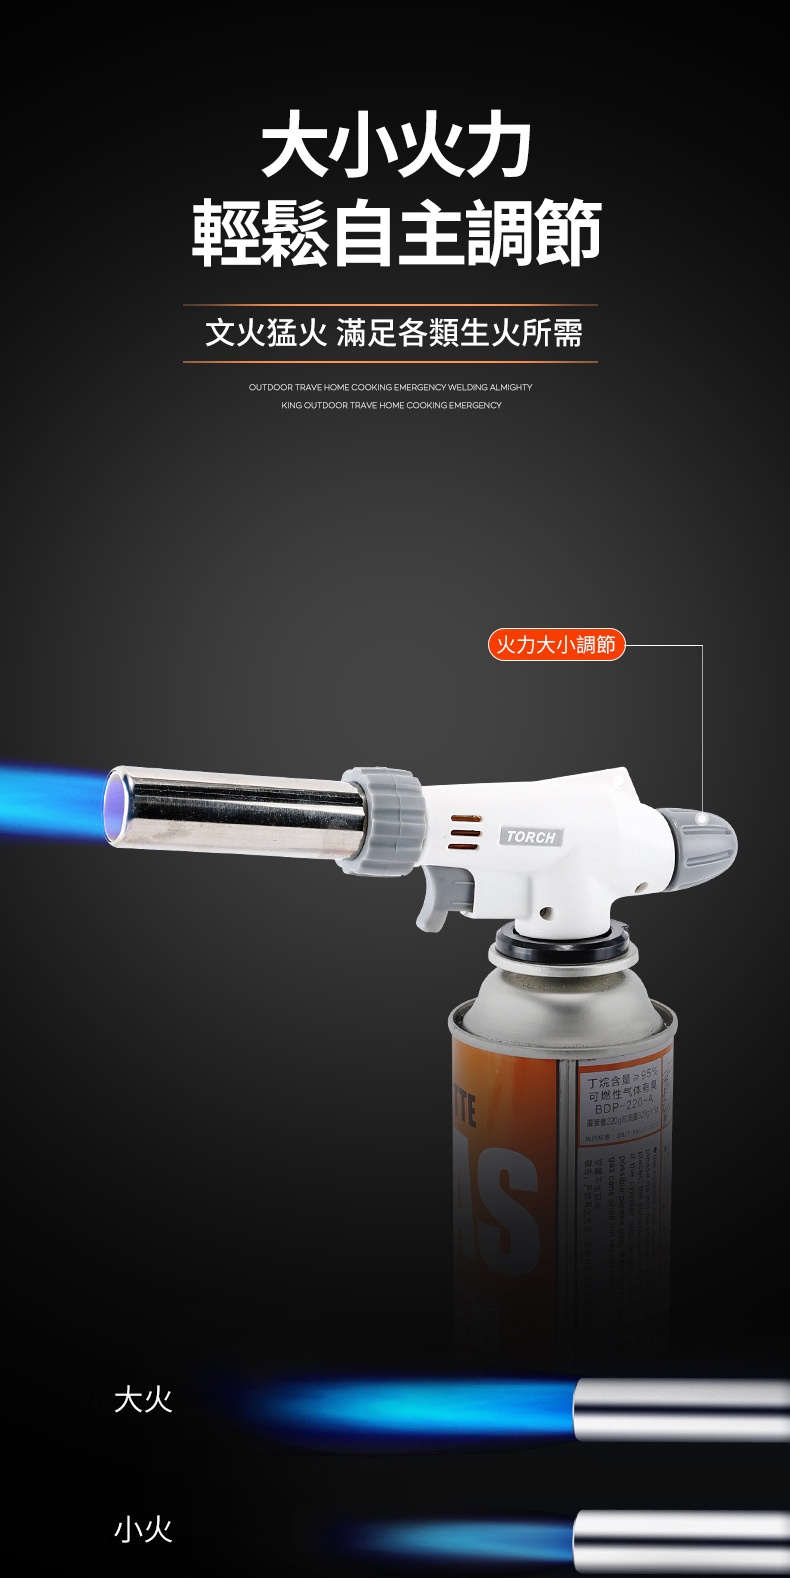gastorch: (96, 741, 743, 1254)
